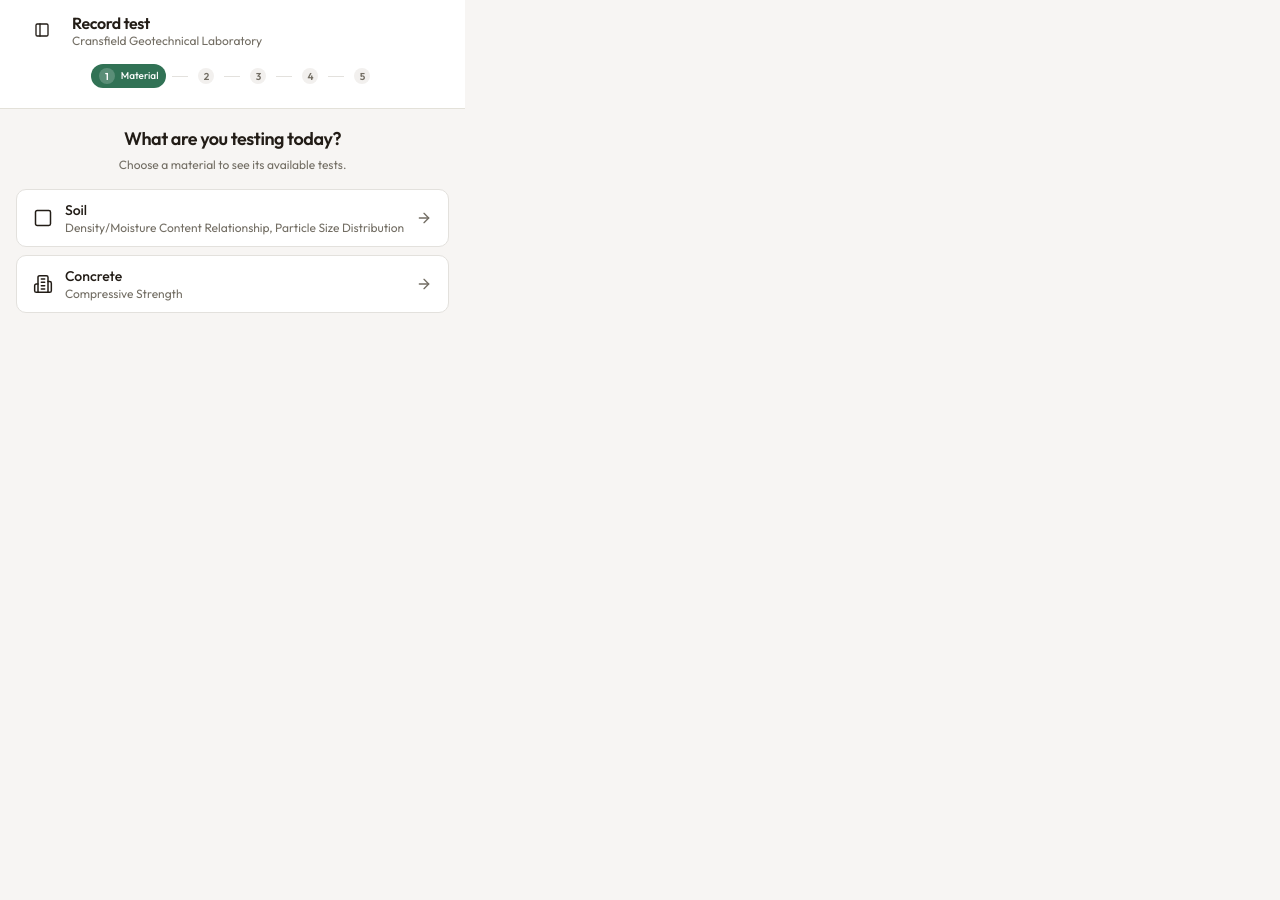
Test: RecordTestWizard selection flow › keeps Concrete on Select test and opens the new project form for a new test
Click the button "Concrete Compressive Strength" at x=94, y=276, box x1=16 y1=255 x2=449 y2=313
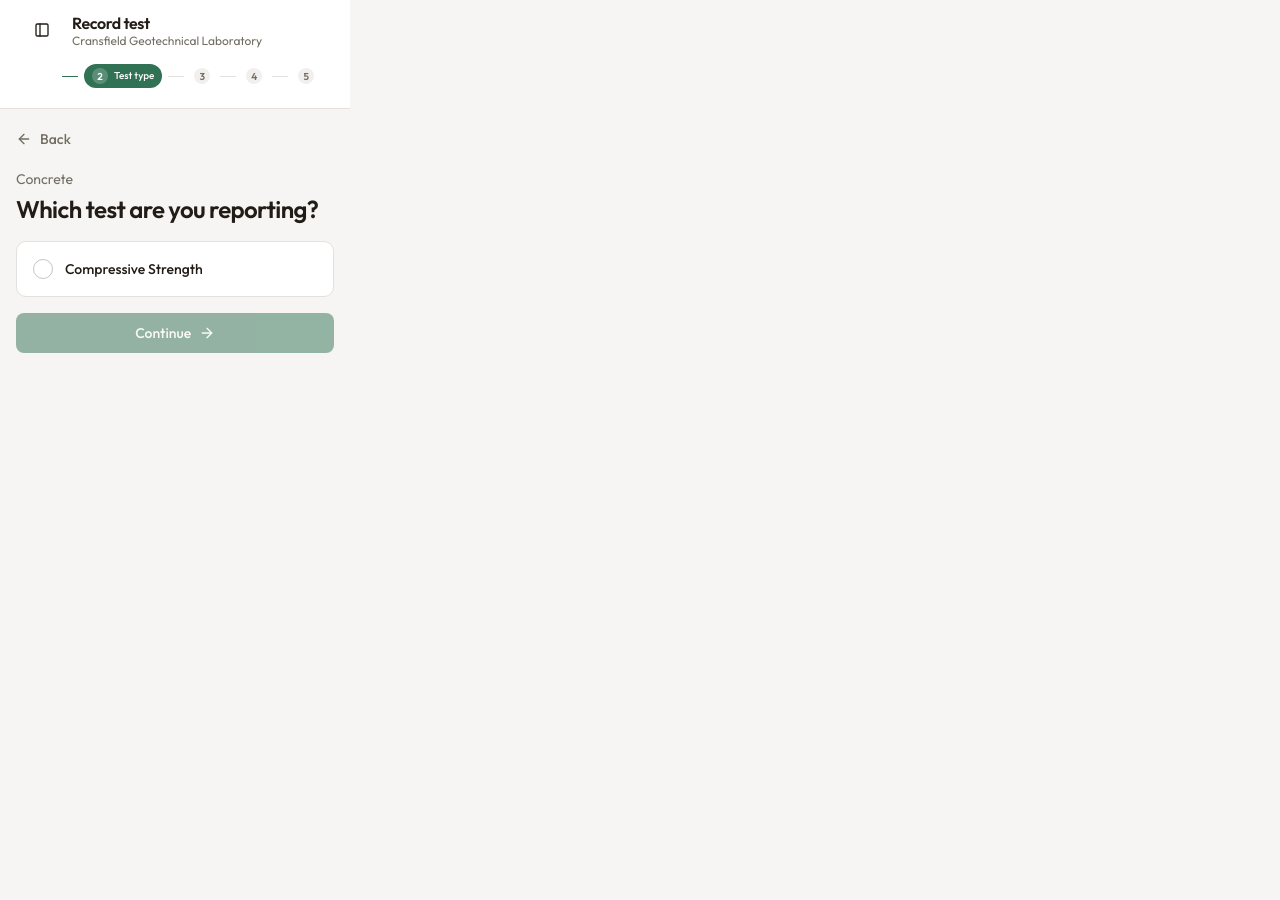
Expected: the heading "Which test are you reporting?" is shown, x1=16 y1=193 x2=334 y2=225
Click the button "Compressive Strength" at x=175, y=269, box x1=16 y1=241 x2=334 y2=297
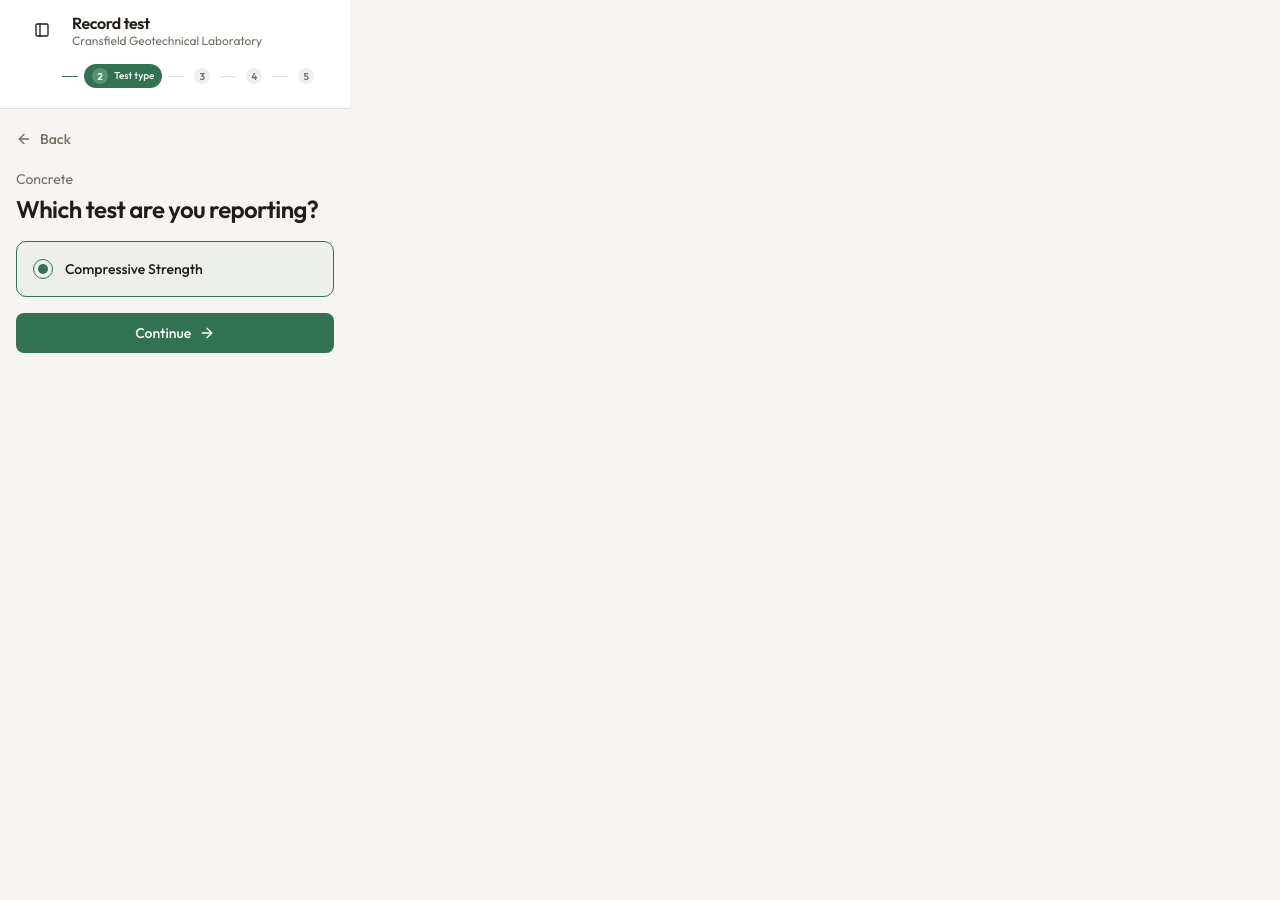
Click the button "Continue" at x=175, y=333, box x1=16 y1=313 x2=334 y2=353
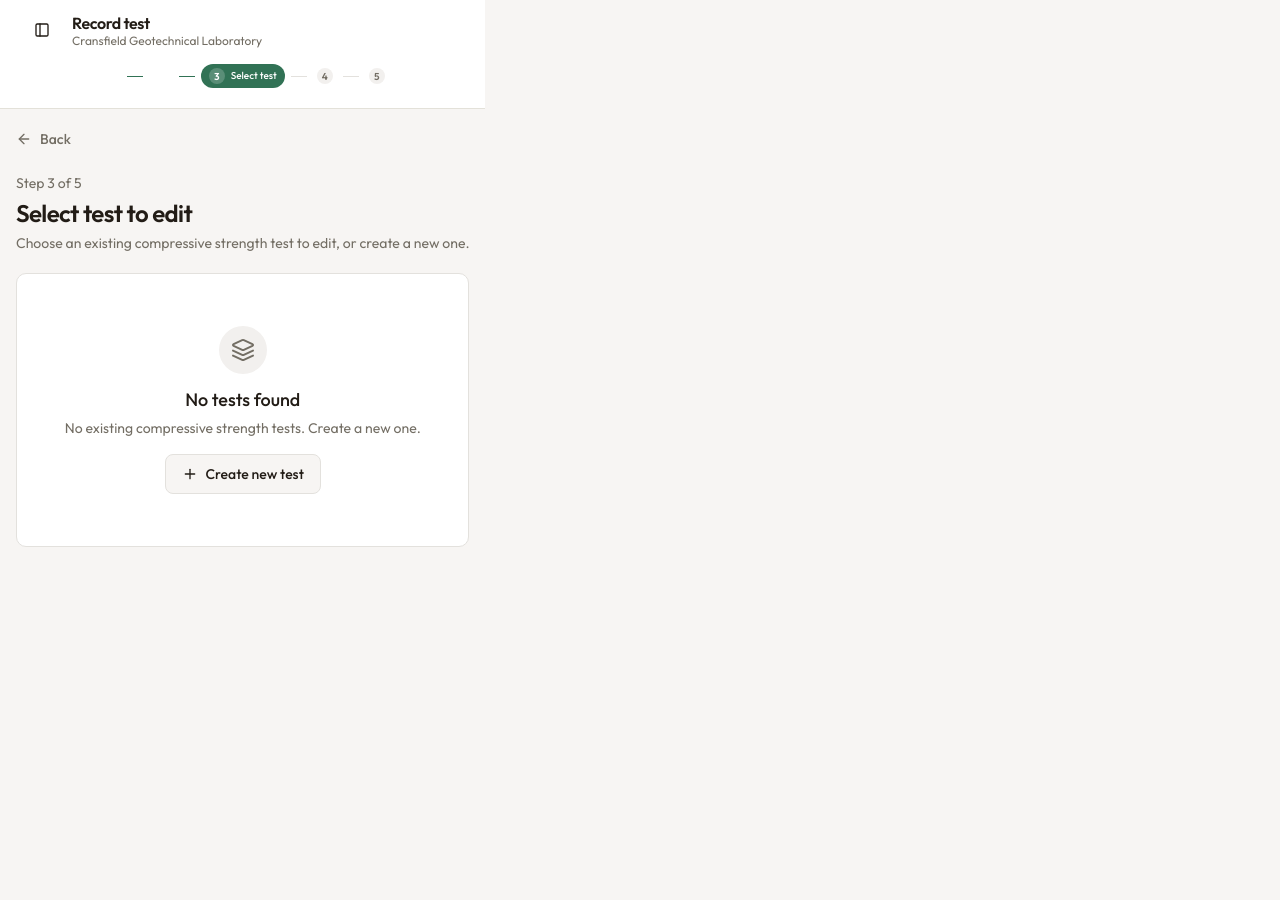
Expected: the heading "Select test to edit" is shown, x1=16 y1=198 x2=192 y2=228
Expected: the text "Step 3 of 5" is shown, x1=16 y1=174 x2=82 y2=192
Click the button "Create new test" at x=243, y=474, box x1=164 y1=454 x2=321 y2=494
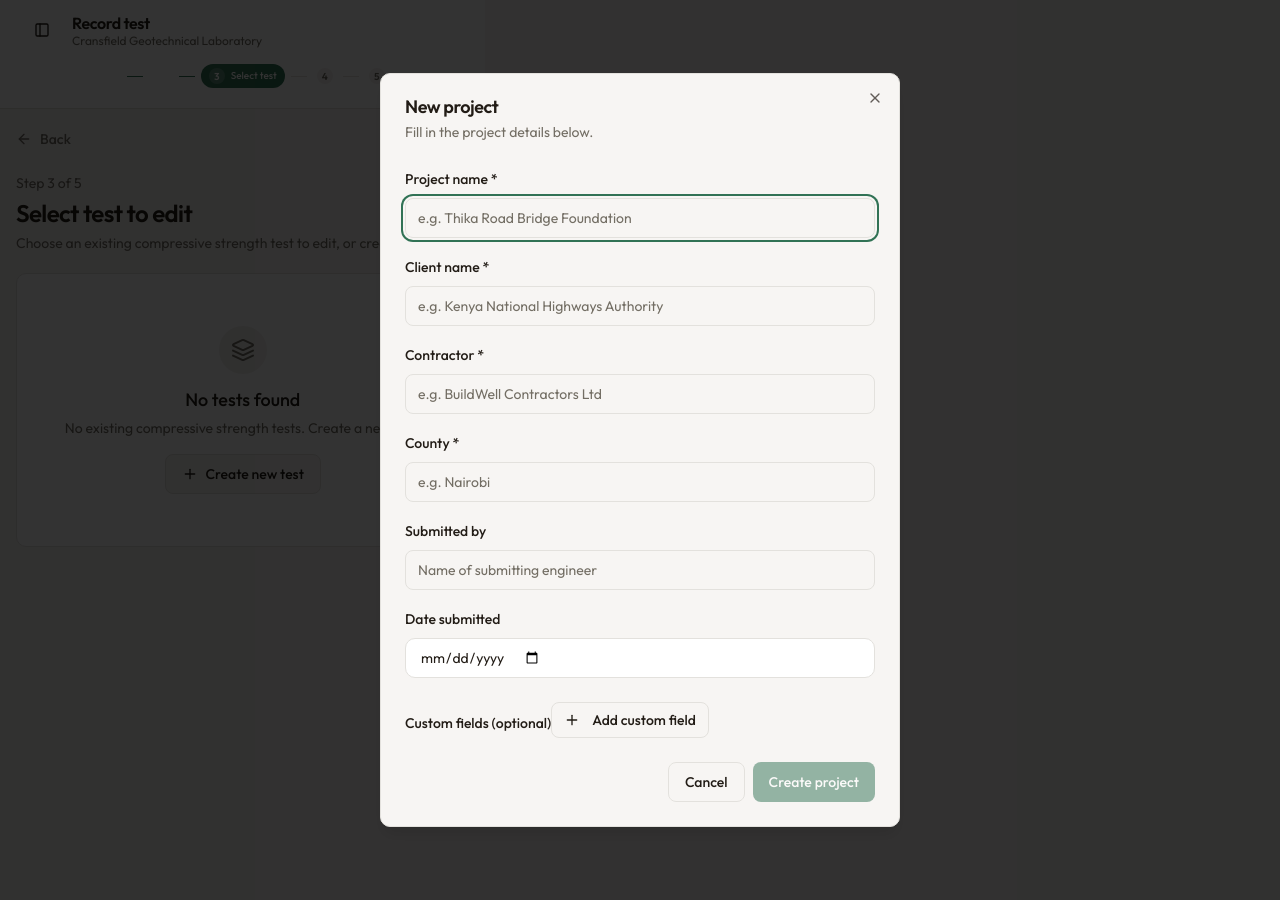
Expected: the dialog shows "New project", x1=405 y1=95 x2=498 y2=118
Expected: the field labelled "Project name *" is shown, x1=405 y1=198 x2=875 y2=238
